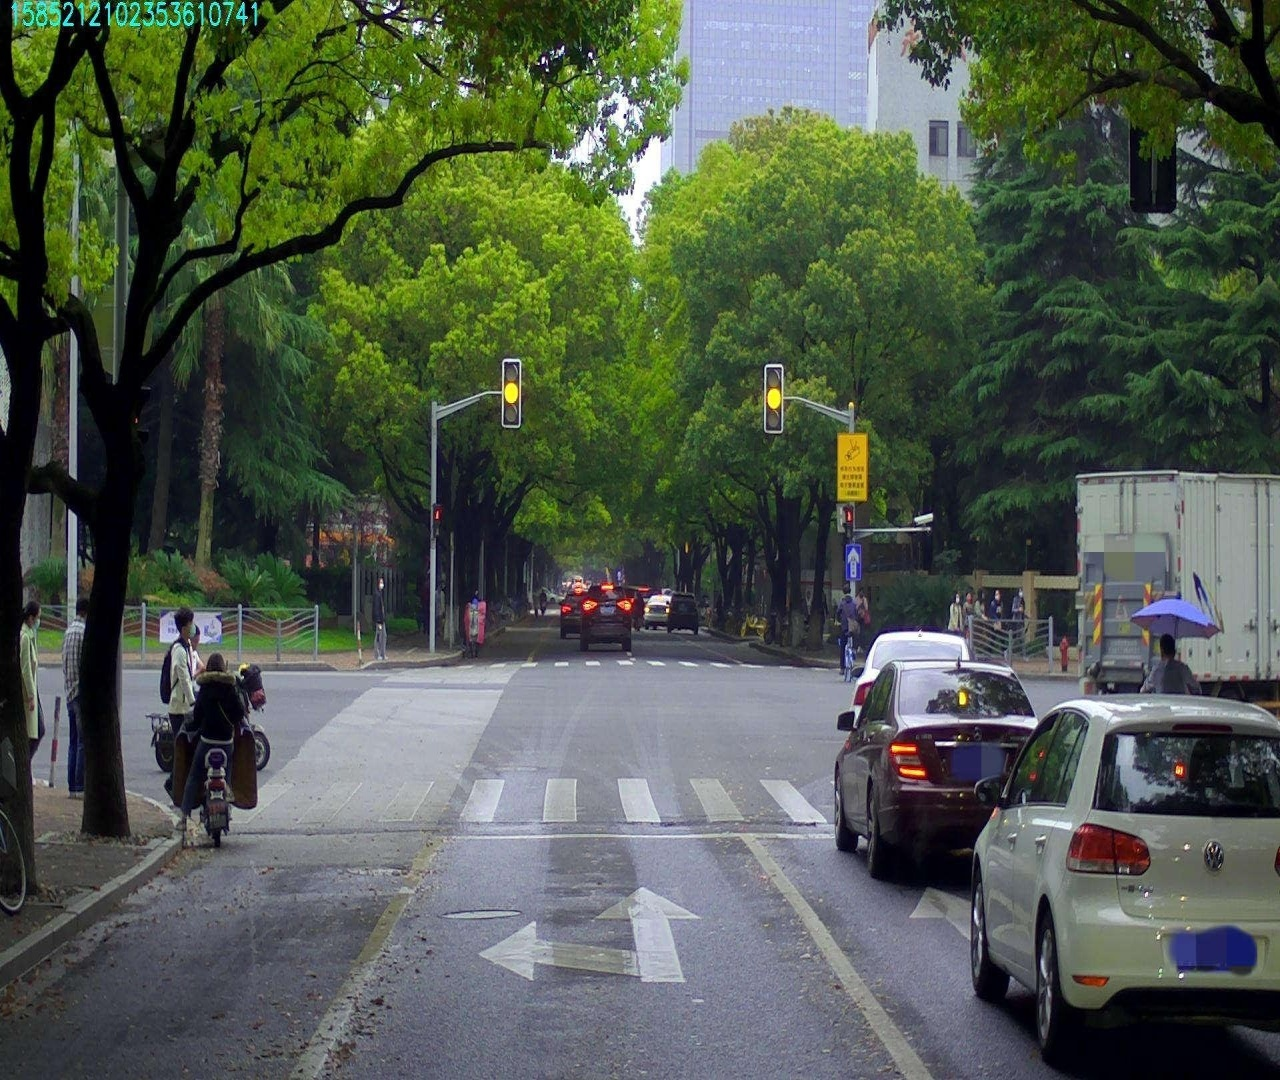yellow: (765, 367, 782, 432), (503, 361, 519, 426)
